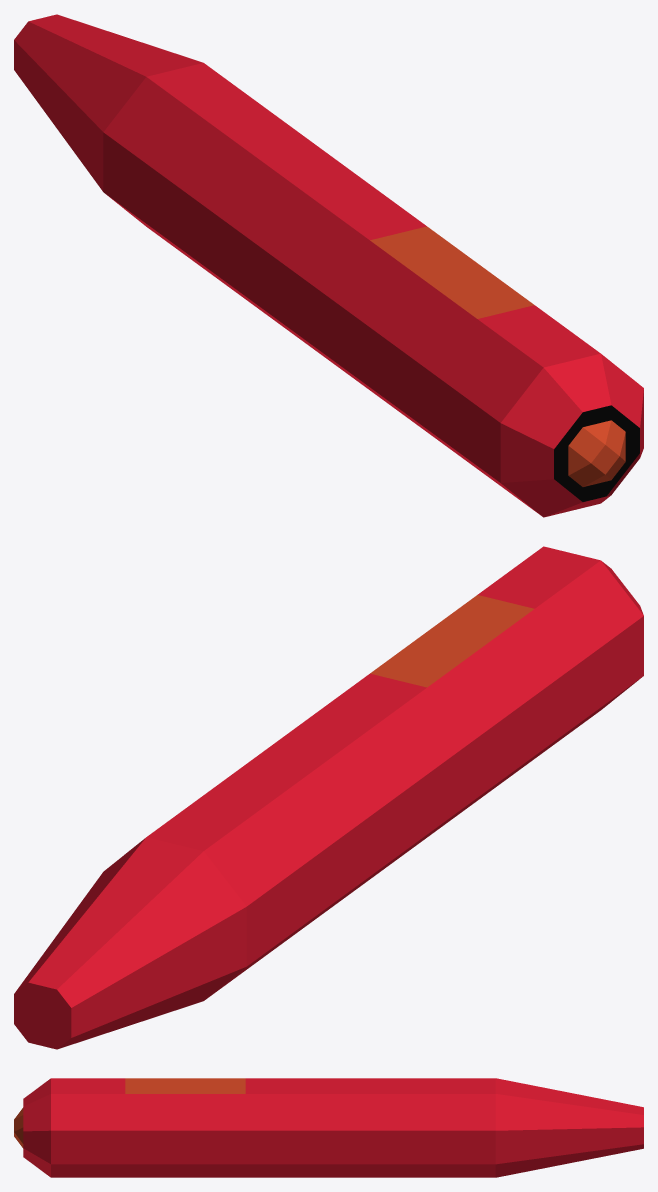
Rendered from VoidArem1.FBX.
3 renders of one model, top to bottom at view 1: azimuth 30°, elevation 25°; view 2: azimuth 150°, elevation 25°; view 3: azimuth 270°, elevation 25°, orthographic. The views are drawn at different scales.
Visible parts, largest first — view 1: VIFS001, VIFS002, VIFS003; view 2: VIFS001, VIFS002; view 3: VIFS001, VIFS002.
Part boxes in pixels (bbox=[...]): VIFS001: bbox=[14, 14, 643, 517]; VIFS002: bbox=[370, 226, 625, 486]; VIFS003: bbox=[554, 405, 639, 501]; VIFS001: bbox=[14, 546, 643, 1049]; VIFS002: bbox=[370, 595, 534, 687]; VIFS001: bbox=[23, 1078, 643, 1177]; VIFS002: bbox=[14, 1078, 245, 1148].
Bounding box in the file's own units: 0.1 × 0.1 × 0.68.
